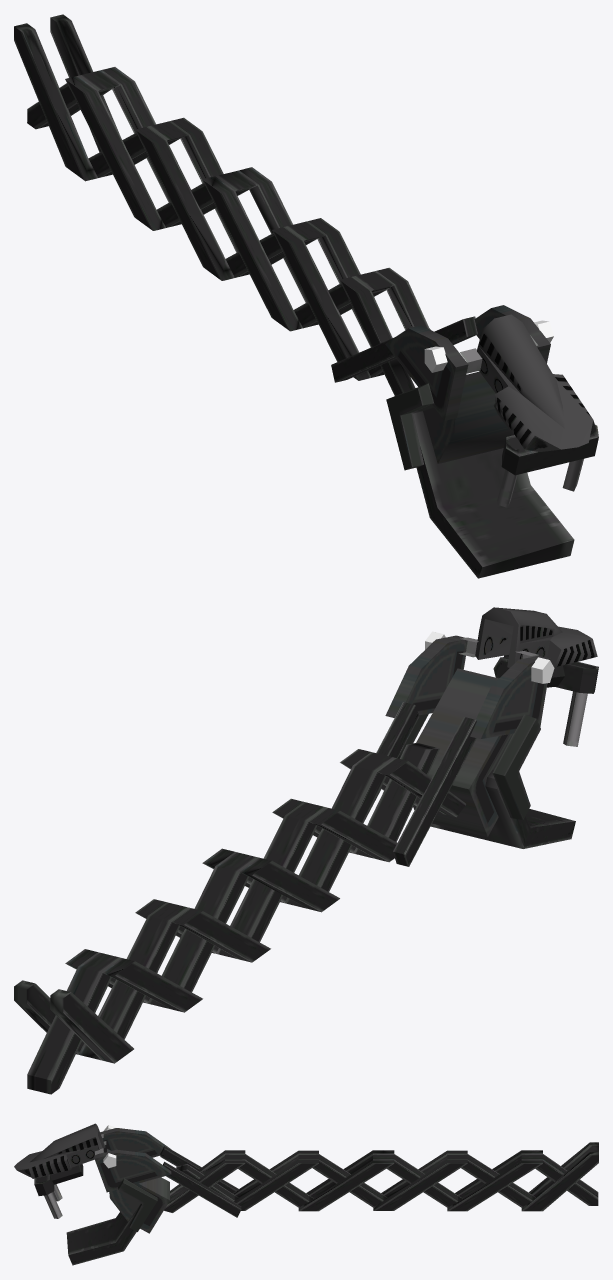
Rendered from ssss.obj.
3 renders of one model, top to bottom at view 1: azimuth 30°, elevation 25°; view 2: azimuth 150°, elevation 25°; view 3: azimuth 270°, elevation 25°, orthographic. The views are drawn at different scales.
Bounding box in the file's own units: 1.07 × 2.01 × 8.35.
